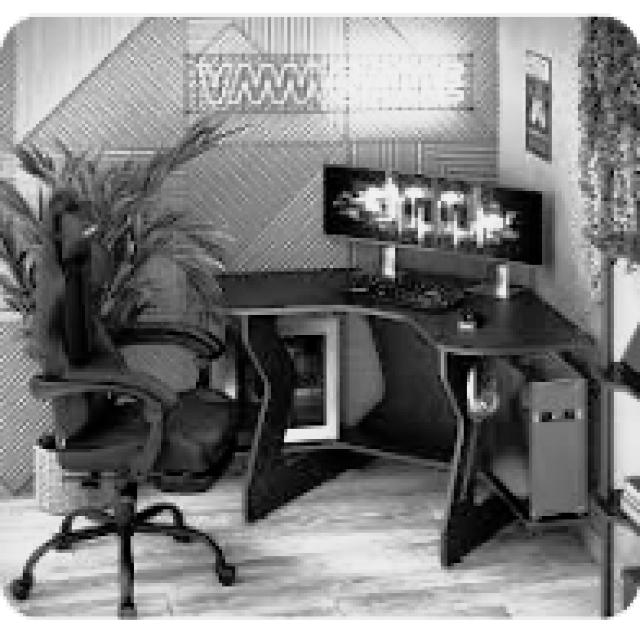book: (10, 188, 242, 616)
table: (192, 268, 598, 566)
